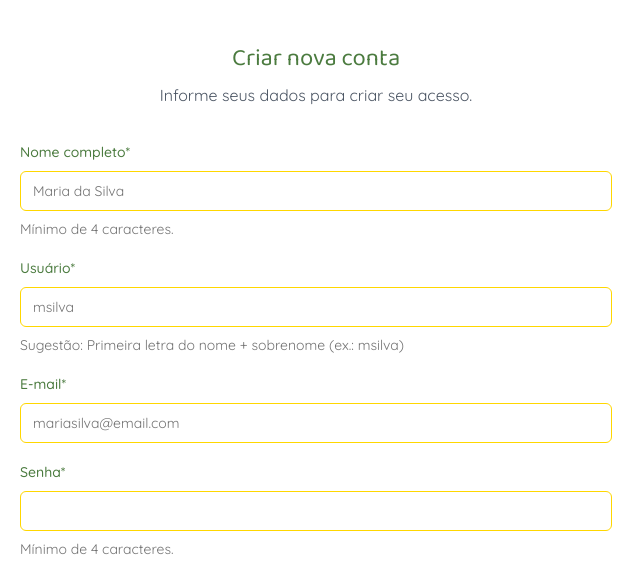
Scenario: pages / sign up › should show submission error when signing up duplicate username
This screenshot has width=633, height=567.
Type "John Doe" into the field labelled "Nome completo*" at [316, 190], box x1=20 y1=170 x2=612 y2=210
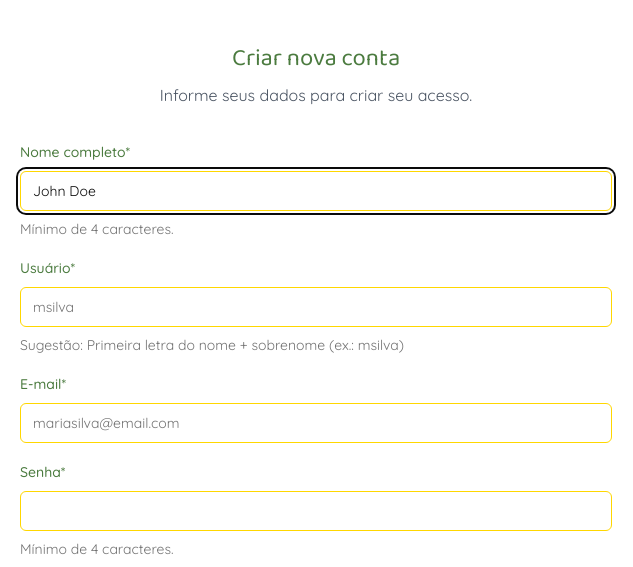
Type "jdoe" into the field labelled "Usuário*" at [316, 306], box x1=20 y1=286 x2=612 y2=326
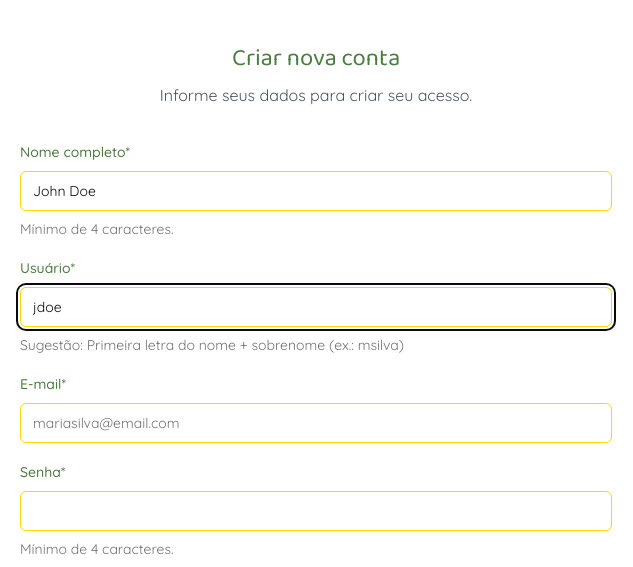
Type "jdoe@gmail.com" into the field labelled "E-mail*" at [316, 422], box x1=20 y1=402 x2=612 y2=442
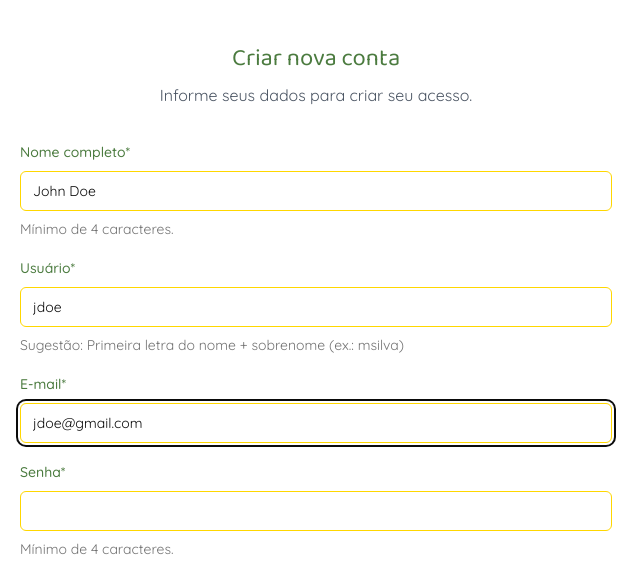
Type "q1w2e3r4" into the password field labelled "Senha*" at [316, 510], box x1=20 y1=490 x2=612 y2=530
(page scrolled)
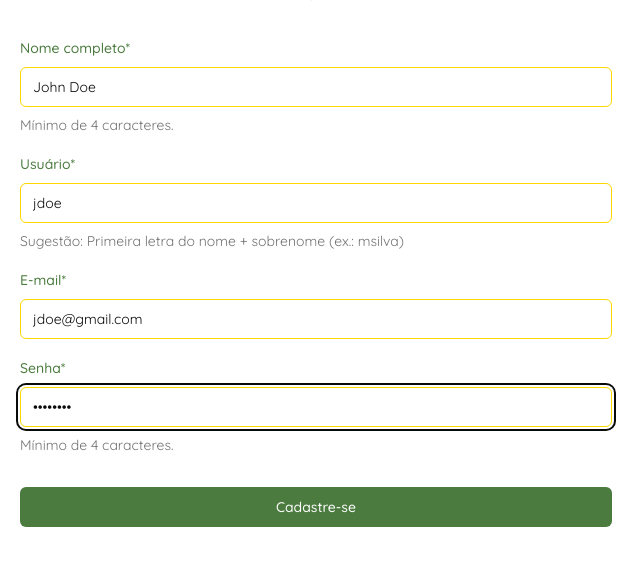
Click the button at [316, 506], box x1=20 y1=486 x2=612 y2=526
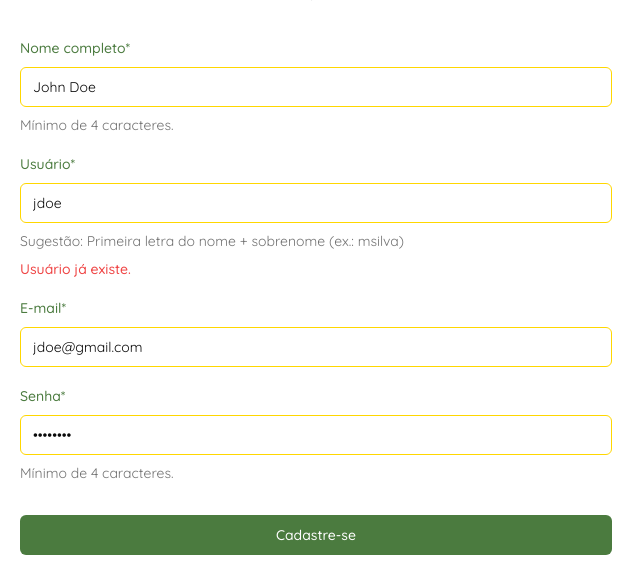
Expected: the text with test id "usernameError" reads "Usuário já existe.", x1=20 y1=260 x2=131 y2=278
